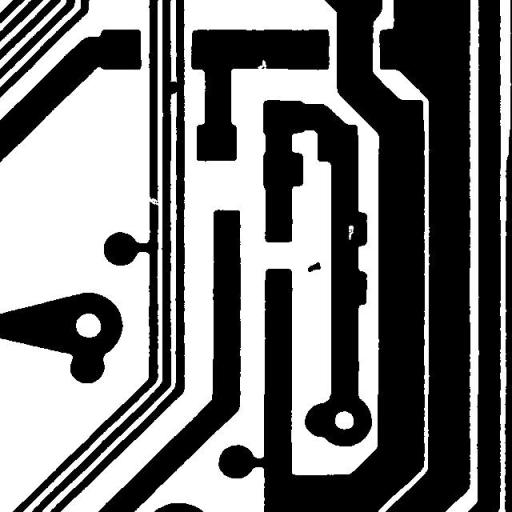copper: (300, 254, 328, 280)
mousebite: (250, 52, 274, 78)
open: (138, 188, 168, 214)
pin-hole: (341, 218, 361, 247)
short: (158, 74, 184, 102)
